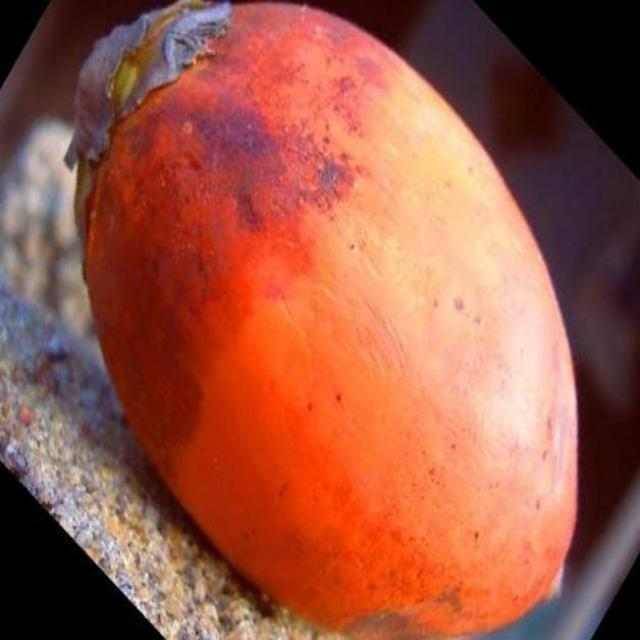good: (68, 0, 581, 639)
